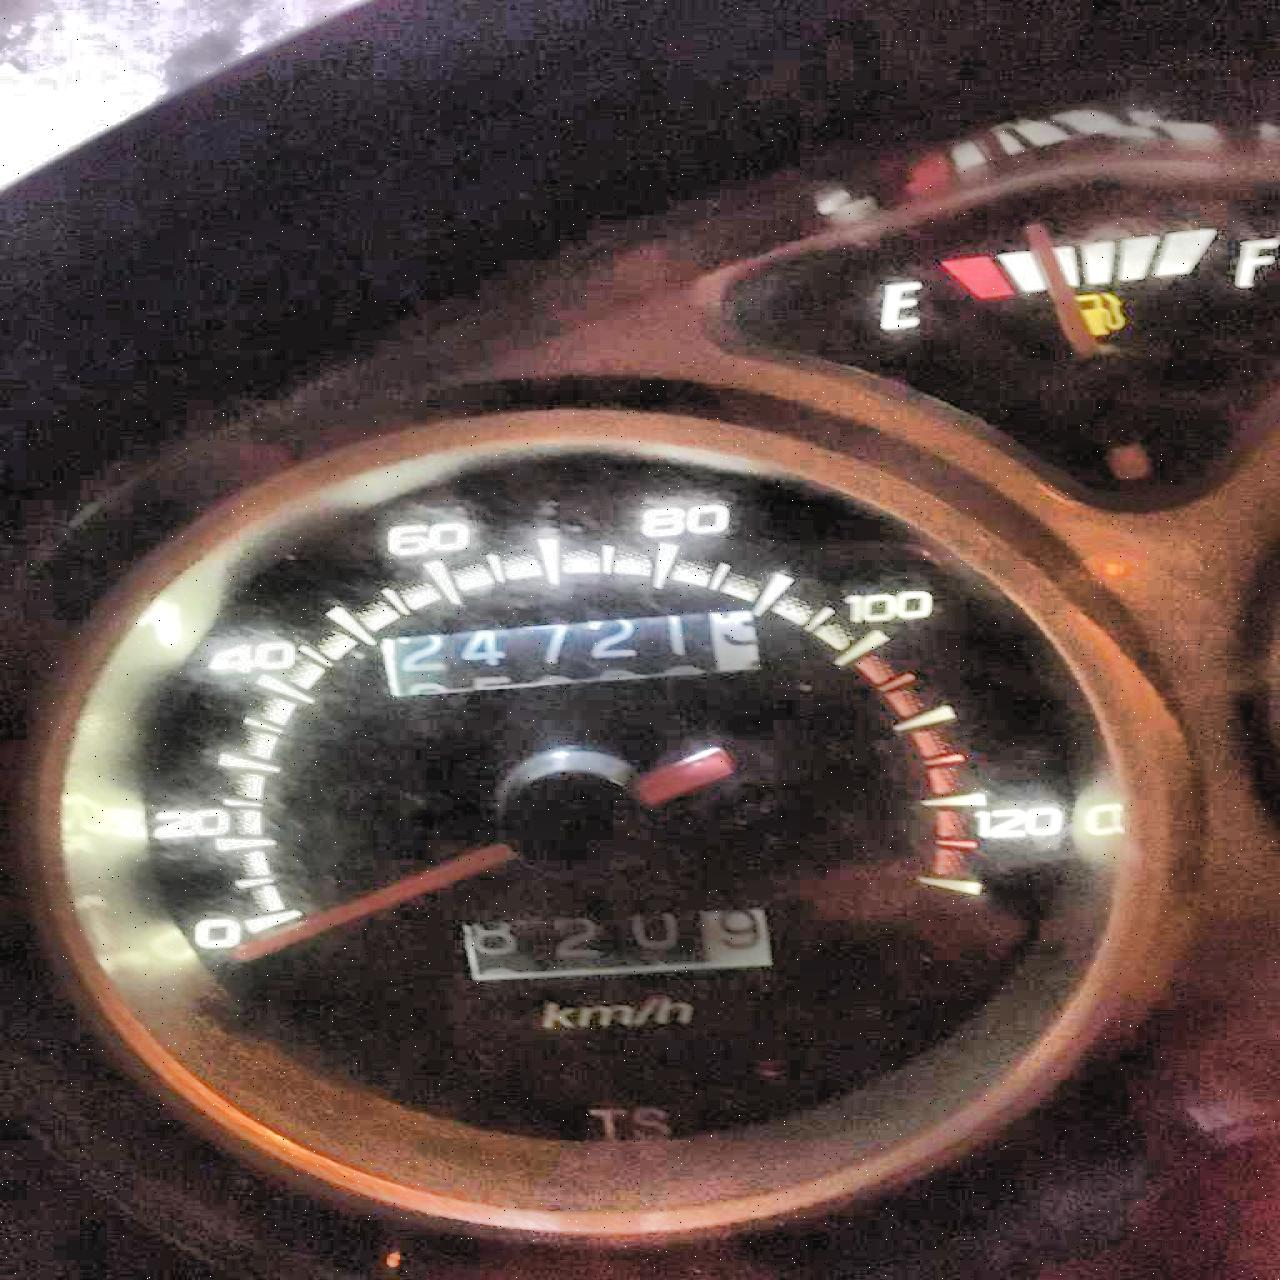1: (662, 613, 686, 656)
2: (585, 618, 635, 658), (395, 633, 445, 672)
3: (716, 605, 756, 644)
4: (458, 627, 505, 665)
7: (522, 621, 568, 662)
odometer: (376, 607, 763, 699)
